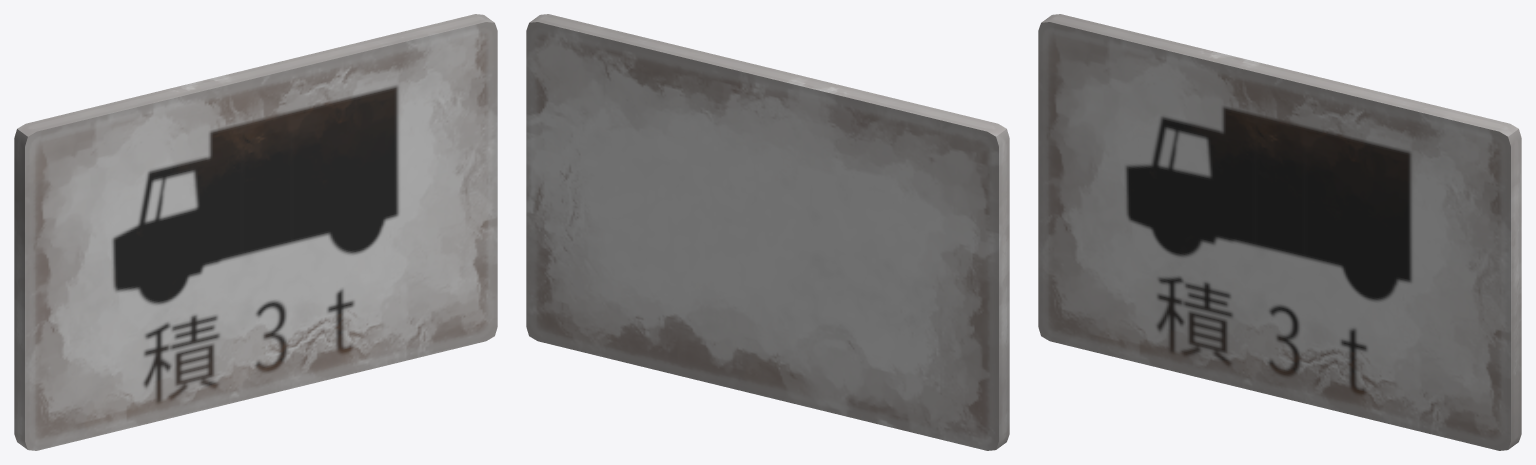
The model's file is SM_trafficsign_truck.fbx.
3 views of the same model, side by side, from view 1: azimuth 30°, elevation 25°; view 2: azimuth 150°, elevation 25°; view 3: azimuth 330°, elevation 25° (orthographic).
Visible parts, largest first — view 1: Box330; view 2: Box330; view 3: Box330.
Part boxes in pixels (<box>): Box330: <box>14,14,497,450</box>; Box330: <box>526,14,1009,450</box>; Box330: <box>1038,14,1521,450</box>.
Size of the model in its own units: 21.81 by 14.07 by 0.8687.
